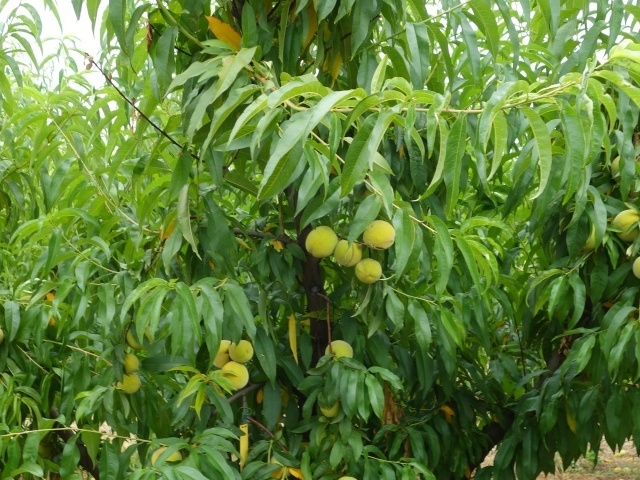peach: (300, 220, 339, 260), (360, 217, 399, 253), (610, 205, 640, 242), (145, 442, 184, 470), (332, 234, 363, 269), (320, 338, 356, 367), (354, 254, 387, 285), (219, 361, 250, 391), (207, 338, 236, 368), (228, 337, 256, 366), (115, 369, 143, 396), (118, 352, 144, 377), (318, 398, 342, 423)
